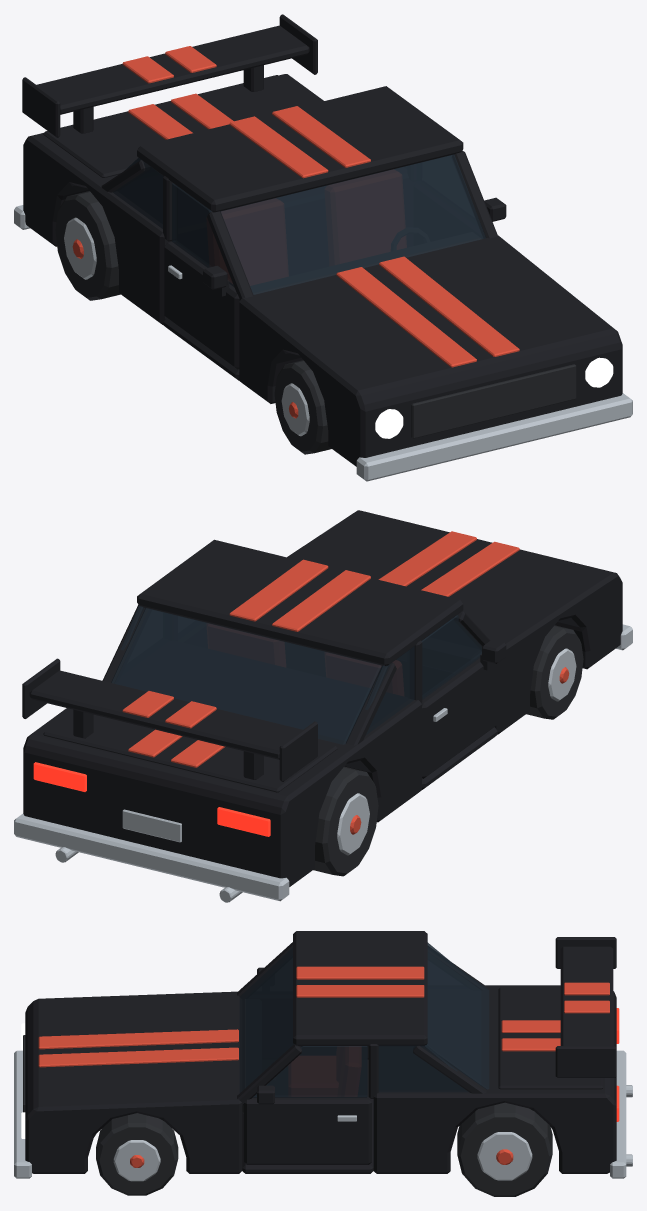
Rendered from muscle-getaway-car.glb.
3 renders of one model, top to bottom at view 1: azimuth 30°, elevation 25°; view 2: azimuth 150°, elevation 25°; view 3: azimuth 270°, elevation 25°, orthographic. The views are drawn at different scales.
Visible parts, largest first — view 1: Body_Front, Windshield, Roof, Body_Rear, Spoiler_Wing, TrunkLid, Bumper_Front, Grille, DoorR, RR, FR, Stripe_Hood_R (+16 smaller); view 2: Body_Rear, Body_Front, RearWindow, Roof, Spoiler_Wing, Bumper_Rear, DoorR, TrunkLid, RR, FR, DoorR_Glass, Stripe_Roof_L (+18 smaller); view 3: Body_Front, Body_Rear, Roof, DoorL, RL, RearWindow, FL, TrunkLid, Windshield, DoorL_Glass, Spoiler_Wing, QuarterGlass_L (+17 smaller).
Boxes of the visible parts, x1,y1,x2,y2 form: Body_Front: [239, 235, 622, 466]; Windshield: [220, 154, 485, 294]; Roof: [137, 86, 463, 212]; Body_Rear: [23, 74, 323, 324]; Spoiler_Wing: [36, 25, 309, 114]; TrunkLid: [43, 75, 315, 177]; Bumper_Front: [356, 393, 632, 481]; Grille: [411, 364, 576, 438]; DoorR: [164, 242, 239, 369]; RR: [55, 191, 120, 300]; FR: [274, 360, 331, 454]; Stripe_Hood_R: [336, 267, 476, 367]; Body_Rear: [23, 699, 421, 886]; Body_Front: [287, 510, 622, 734]; RearWindow: [111, 608, 382, 744]; Roof: [137, 539, 463, 666]; Spoiler_Wing: [29, 670, 302, 759]; Bumper_Rear: [14, 813, 289, 901]; DoorR: [421, 656, 496, 778]; TrunkLid: [43, 711, 337, 792]; RR: [313, 766, 378, 876]; FR: [526, 625, 583, 719]; DoorR_Glass: [421, 615, 481, 699]; Stripe_Roof_L: [229, 559, 328, 621]; Body_Front: [25, 991, 242, 1173]; Body_Rear: [373, 985, 616, 1173]; Roof: [293, 931, 427, 1046]; DoorL: [244, 1097, 371, 1164]; RL: [457, 1102, 552, 1196]; RearWindow: [426, 946, 489, 1089]; FL: [96, 1113, 178, 1195]; TrunkLid: [498, 987, 603, 1089]; Windshield: [239, 947, 293, 1092]; DoorL_Glass: [252, 1046, 367, 1097]; Spoiler_Wing: [560, 946, 613, 1045]; QuarterGlass_L: [378, 1045, 468, 1092].
Bounding box in the file's own units: 9 × 5.37 × 18.85.
